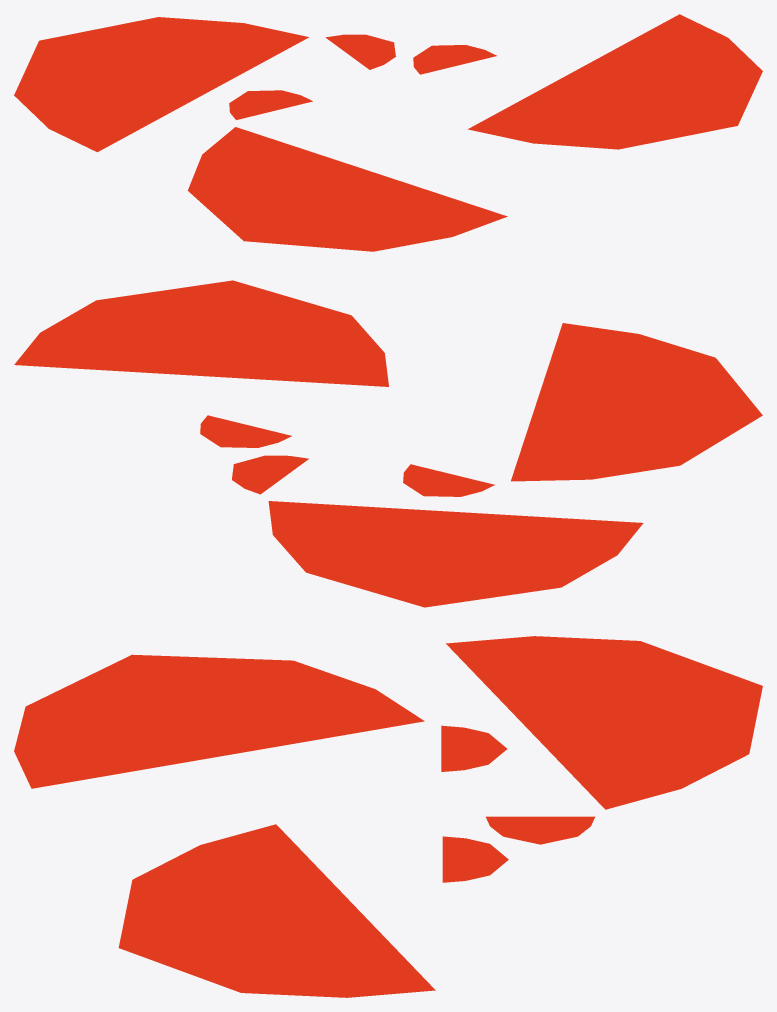
The model's file is AST_viewRadius_boundingBox.fbx.
The picture shows the model from 3 angles, top to bottom: view 1: azimuth 30°, elevation 25°; view 2: azimuth 150°, elevation 25°; view 3: azimuth 270°, elevation 25°; orthographic projection. The views are drawn at different scales.
Parts seen in each view (by area): view 1: MSH_viewRadius_boundingBox; view 2: MSH_viewRadius_boundingBox; view 3: MSH_viewRadius_boundingBox.
Part boxes in pixels (left/top/right/bottom): MSH_viewRadius_boundingBox: left=14, top=14, right=762, bottom=251; MSH_viewRadius_boundingBox: left=14, top=280, right=762, bottom=607; MSH_viewRadius_boundingBox: left=14, top=636, right=762, bottom=997.
Size of the model in its own units: 14474 by 0 by 12663.
